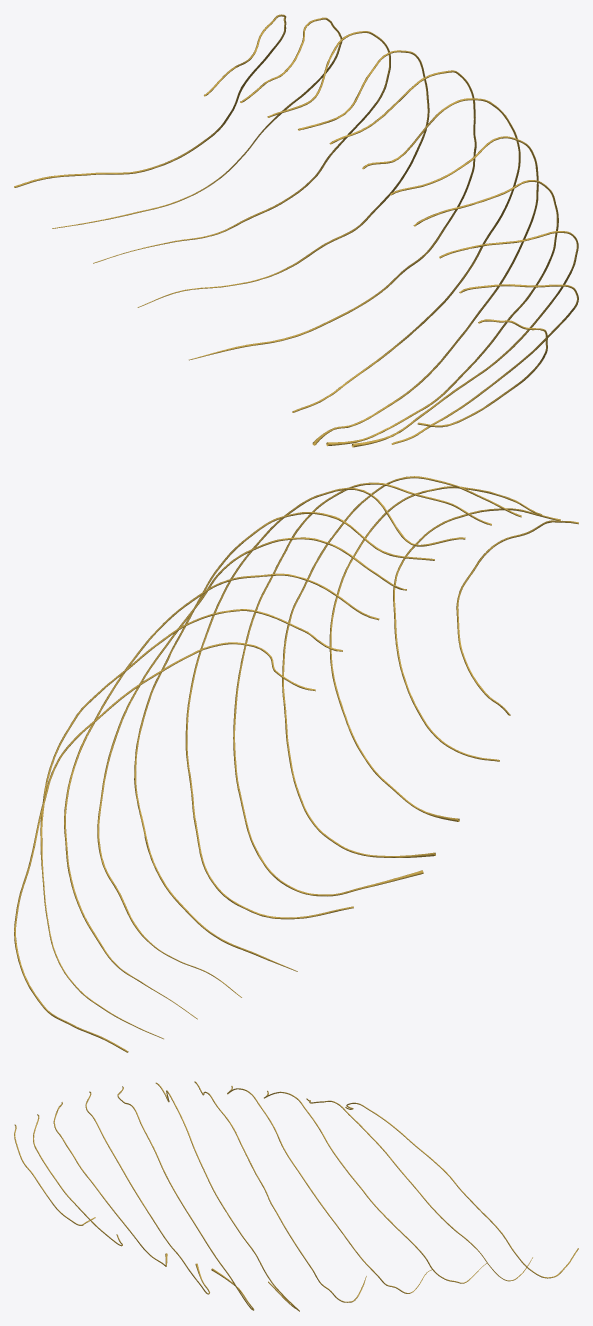
3 views of the same model, one above another, from view 1: azimuth 30°, elevation 25°; view 2: azimuth 150°, elevation 25°; view 3: azimuth 270°, elevation 25° (orthographic). The views are drawn at different scales.
Visible parts, largest first — view 1: 左侧肋间神经; view 2: 左侧肋间神经; view 3: 左侧肋间神经.
Part boxes in pixels (left/top/right/bottom): 左侧肋间神经: left=14, top=14, right=578, bottom=447; 左侧肋间神经: left=14, top=476, right=578, bottom=1052; 左侧肋间神经: left=14, top=1081, right=578, bottom=1311.
Bounding box in the file's own units: 0.1845 × 0.2882 × 0.6685.
